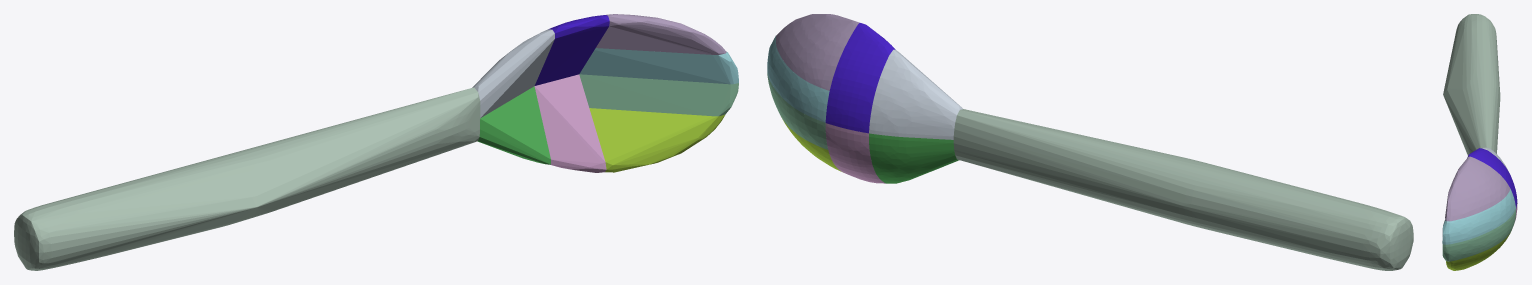
Rendered from spoon_spatula-collision.glb.
3 renders of one model, left to right at view 1: azimuth 30°, elevation 25°; view 2: azimuth 150°, elevation 25°; view 3: azimuth 270°, elevation 25°, orthographic. The views are drawn at different scales.
Visible parts, largest first — view 1: spoon_spatula_collision0_0, spoon_spatula_collision4_0, spoon_spatula_collision3_0, spoon_spatula_collision7_0, spoon_spatula_collision2_0, spoon_spatula_collision1_0, spoon_spatula_collision8_0, spoon_spatula_collision6_0, spoon_spatula_collision5_0; view 2: spoon_spatula_collision0_0, spoon_spatula_collision6_0, spoon_spatula_collision5_0, spoon_spatula_collision1_0, spoon_spatula_collision8_0, spoon_spatula_collision2_0, spoon_spatula_collision7_0, spoon_spatula_collision3_0, spoon_spatula_collision4_0; view 3: spoon_spatula_collision0_0, spoon_spatula_collision1_0, spoon_spatula_collision2_0, spoon_spatula_collision3_0, spoon_spatula_collision5_0, spoon_spatula_collision4_0, spoon_spatula_collision6_0.
Boxes of the visible parts, left/top/right/bottom form: spoon_spatula_collision0_0: left=14, top=87, right=480, bottom=270; spoon_spatula_collision4_0: left=589, top=108, right=725, bottom=172; spoon_spatula_collision3_0: left=579, top=74, right=738, bottom=116; spoon_spatula_collision7_0: left=534, top=74, right=606, bottom=172; spoon_spatula_collision2_0: left=579, top=48, right=738, bottom=84; spoon_spatula_collision1_0: left=596, top=14, right=726, bottom=54; spoon_spatula_collision8_0: left=477, top=86, right=550, bottom=164; spoon_spatula_collision6_0: left=472, top=29, right=554, bottom=117; spoon_spatula_collision5_0: left=534, top=15, right=609, bottom=85; spoon_spatula_collision0_0: left=953, top=109, right=1413, bottom=270; spoon_spatula_collision6_0: left=869, top=49, right=962, bottom=139; spoon_spatula_collision5_0: left=825, top=23, right=895, bottom=133; spoon_spatula_collision1_0: left=776, top=14, right=859, bottom=90; spoon_spatula_collision8_0: left=869, top=133, right=959, bottom=183; spoon_spatula_collision2_0: left=767, top=36, right=829, bottom=122; spoon_spatula_collision7_0: left=825, top=123, right=885, bottom=183; spoon_spatula_collision3_0: left=767, top=73, right=828, bottom=149; spoon_spatula_collision4_0: left=782, top=119, right=841, bottom=171; spoon_spatula_collision0_0: left=1443, top=14, right=1500, bottom=155; spoon_spatula_collision1_0: left=1445, top=156, right=1510, bottom=221; spoon_spatula_collision2_0: left=1442, top=189, right=1515, bottom=244; spoon_spatula_collision3_0: left=1442, top=209, right=1515, bottom=261; spoon_spatula_collision5_0: left=1467, top=148, right=1517, bottom=208; spoon_spatula_collision4_0: left=1446, top=232, right=1510, bottom=270; spoon_spatula_collision6_0: left=1482, top=147, right=1508, bottom=171.
Bounding box in the file's own units: 0.3516 × 0.0769 × 0.0502.
